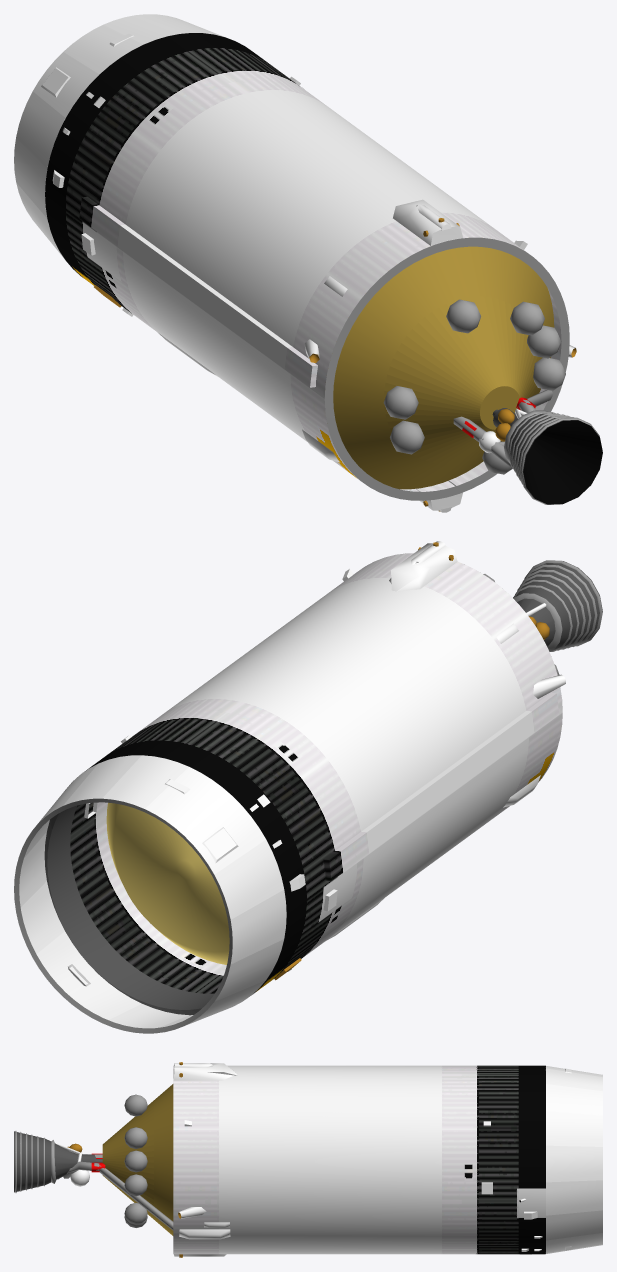
Rendered from sat5stg3.obj.
The picture shows the model from 3 angles, top to bottom: view 1: azimuth 30°, elevation 25°; view 2: azimuth 150°, elevation 25°; view 3: azimuth 270°, elevation 25°; orthographic projection. The views are drawn at different scales.
Parts seen in each view (by area): view 1: group148, group19, group358, group150, group344, group345, group308, group347, group352, group354, group357, group353 (+3 smaller); view 2: group148, group344, group345, group370, group346, group347, group362, group308; view 3: group148, group345, group344, group19, group347, group308, group349, group304, group356, group355, group354, group357 (+1 smaller).
Boxes of the visible parts, x1,y1,x2,y2 form: group148: [45, 33, 561, 491]; group19: [333, 246, 554, 489]; group358: [324, 237, 569, 500]; group150: [523, 420, 602, 504]; group344: [16, 14, 223, 257]; group345: [14, 14, 190, 218]; group308: [393, 199, 459, 512]; group347: [492, 408, 577, 486]; group352: [383, 386, 418, 419]; group354: [446, 299, 480, 333]; group357: [510, 301, 544, 335]; group353: [390, 420, 424, 454]; group148: [70, 553, 562, 994]; group344: [20, 755, 284, 1027]; group345: [19, 755, 286, 1028]; group370: [106, 802, 229, 964]; group346: [44, 780, 214, 1015]; group347: [515, 561, 602, 649]; group362: [14, 798, 232, 1033]; group308: [389, 541, 457, 591]; group148: [173, 1065, 545, 1254]; group345: [546, 1068, 602, 1252]; group344: [546, 1066, 602, 1253]; group19: [154, 1084, 173, 1235]; group347: [14, 1131, 102, 1192]; group308: [173, 1063, 237, 1256]; group349: [99, 1165, 173, 1230]; group304: [179, 1229, 230, 1239]; group356: [124, 1150, 147, 1172]; group355: [124, 1174, 147, 1196]; group354: [124, 1094, 147, 1116]; group357: [124, 1127, 147, 1148].
Bounding box in the file's own units: 7.22 × 7.51 × 20.65.
Materials: 10 (1 with a texture image).
